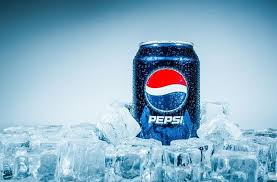Pepsi: (129, 41, 202, 140)
